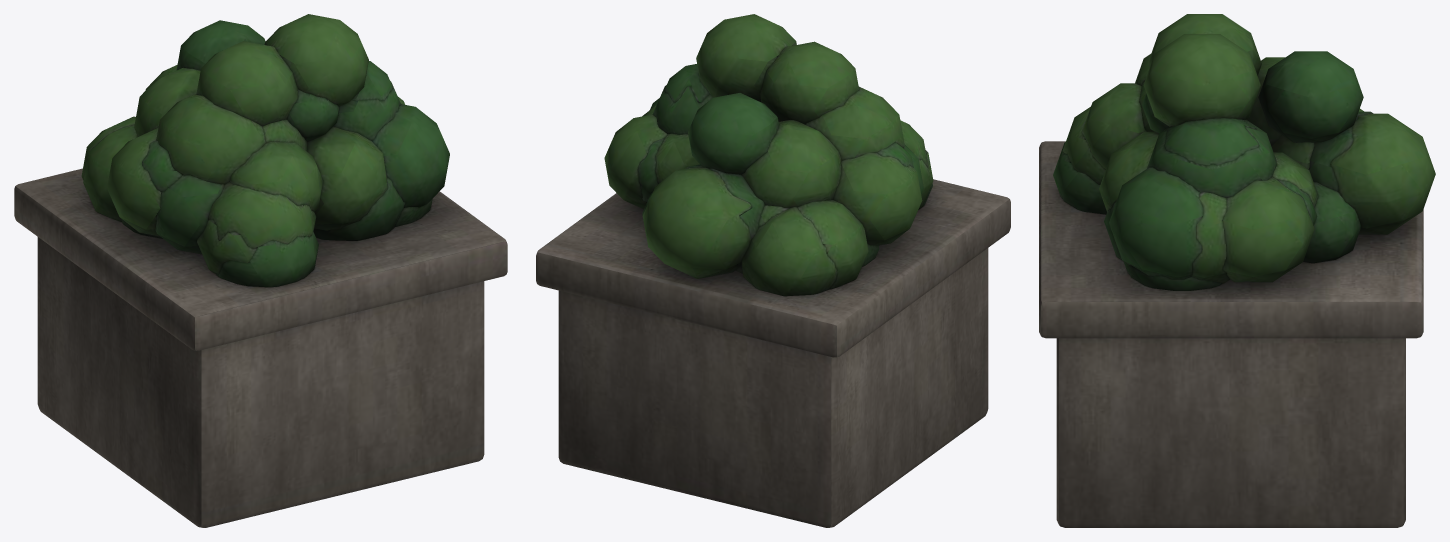
Rendered from planter_stone.glb.
3 renders of one model, left to right at view 1: azimuth 30°, elevation 25°; view 2: azimuth 150°, elevation 25°; view 3: azimuth 270°, elevation 25°, orthographic. The views are drawn at different scales.
Visible parts, largest first — view 1: planter_stone; view 2: planter_stone; view 3: planter_stone.
Boxes of the visible parts, <box> form: planter_stone: <box>14,14,507,527</box>; planter_stone: <box>536,14,1010,527</box>; planter_stone: <box>1039,14,1435,527</box>.
Bounding box in the file's own units: 0.88 × 1.11 × 0.9081.
Materials: 1 (1 with a texture image).
